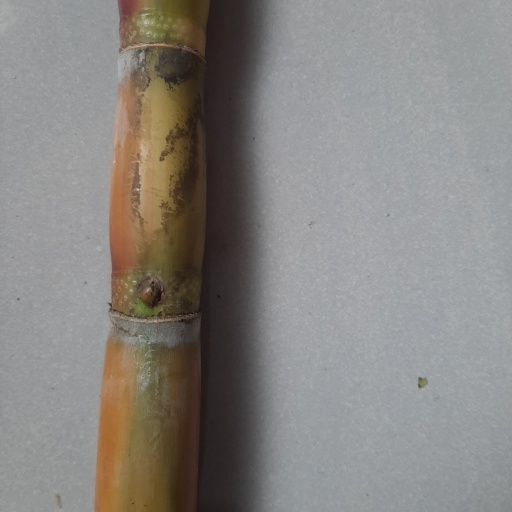Bud: (139, 278, 161, 309)
